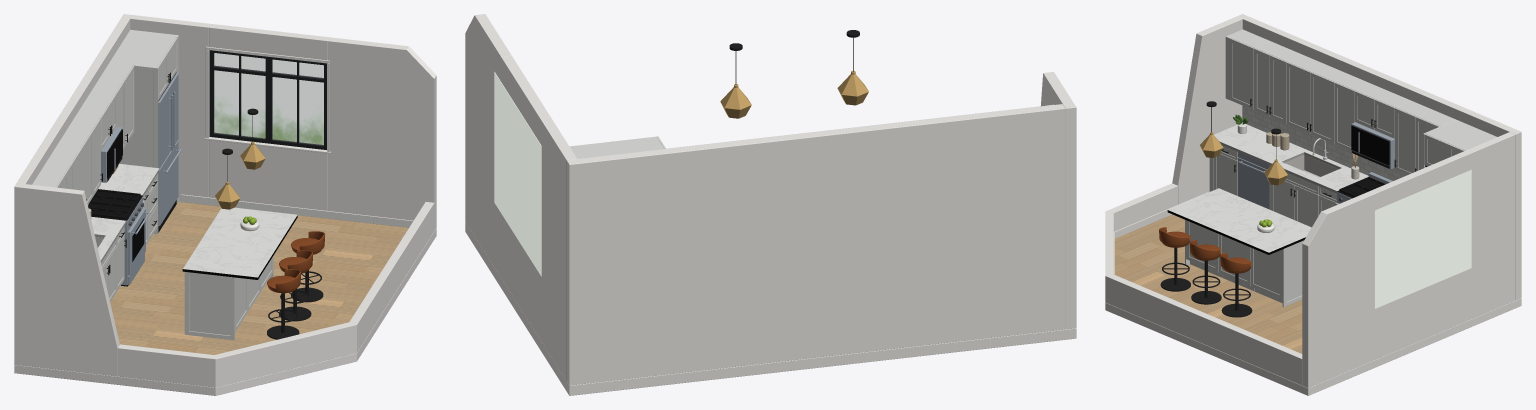
Rendered from kitchen.glb.
3 renders of one model, left to right at view 1: azimuth 30°, elevation 25°; view 2: azimuth 150°, elevation 25°; view 3: azimuth 270°, elevation 25°, orthographic. The views are drawn at different scales.
Visible parts, largest first — view 1: walls_floor_slab, floor_oak, windowb_glass, windowb_exteriorbackdrop, island_countertop, panel_cabinet_boxes, island_door_deco_end_R, windowb_frame, door_deco_A_REP90_R, fridge_leaves, countertop_quartz, baseboards (+22 smaller); view 2: walls_floor_slab, windowb_exteriorbackdrop, island_pendant_shades, panel_cabinet_boxes; view 3: walls_floor_slab, windowb_exteriorbackdrop, floor_oak, panel_cabinet_boxes, island_countertop, countertop_quartz, backsplash_a, island, door_A13_W1836, door_A10_W3636_L, door_A10_W3636_R, dishwasher_face (+24 smaller).
Part boxes in pixels (bbox=[...]): walls_floor_slab: bbox=[14, 14, 436, 395]; floor_oak: bbox=[110, 201, 408, 354]; windowb_glass: bbox=[214, 53, 323, 145]; windowb_exteriorbackdrop: bbox=[214, 53, 323, 144]; island_countertop: bbox=[182, 207, 297, 279]; panel_cabinet_boxes: bbox=[32, 29, 178, 237]; island_door_deco_end_R: bbox=[184, 272, 235, 340]; windowb_frame: bbox=[209, 50, 326, 149]; door_deco_A_REP90_R: bbox=[109, 62, 158, 234]; fridge_leaves: bbox=[158, 73, 178, 226]; countertop_quartz: bbox=[91, 163, 159, 262]; baseboards: bbox=[181, 194, 413, 227]; walls_floor_slab: bbox=[465, 14, 1076, 395]; windowb_exteriorbackdrop: bbox=[494, 72, 541, 276]; island_pendant_shades: bbox=[720, 70, 868, 118]; panel_cabinet_boxes: bbox=[570, 104, 1053, 158]; walls_floor_slab: bbox=[1105, 14, 1521, 395]; windowb_exteriorbackdrop: bbox=[1374, 170, 1471, 308]; floor_oak: bbox=[1114, 214, 1302, 353]; panel_cabinet_boxes: bbox=[1209, 29, 1496, 191]; island_countertop: bbox=[1167, 188, 1311, 254]; countertop_quartz: bbox=[1214, 122, 1368, 193]; backsplash_a: bbox=[1242, 105, 1406, 180]; island: bbox=[1186, 220, 1282, 299]; door_A13_W1836: bbox=[1229, 38, 1254, 109]; door_A10_W3636_L: bbox=[1310, 72, 1334, 144]; door_A10_W3636_R: bbox=[1286, 62, 1310, 133]; dishwasher_face: bbox=[1238, 152, 1269, 209].
Size of the model in its own units: 6.58 by 2.57 by 5.57.
34 materials, 5 textured.
